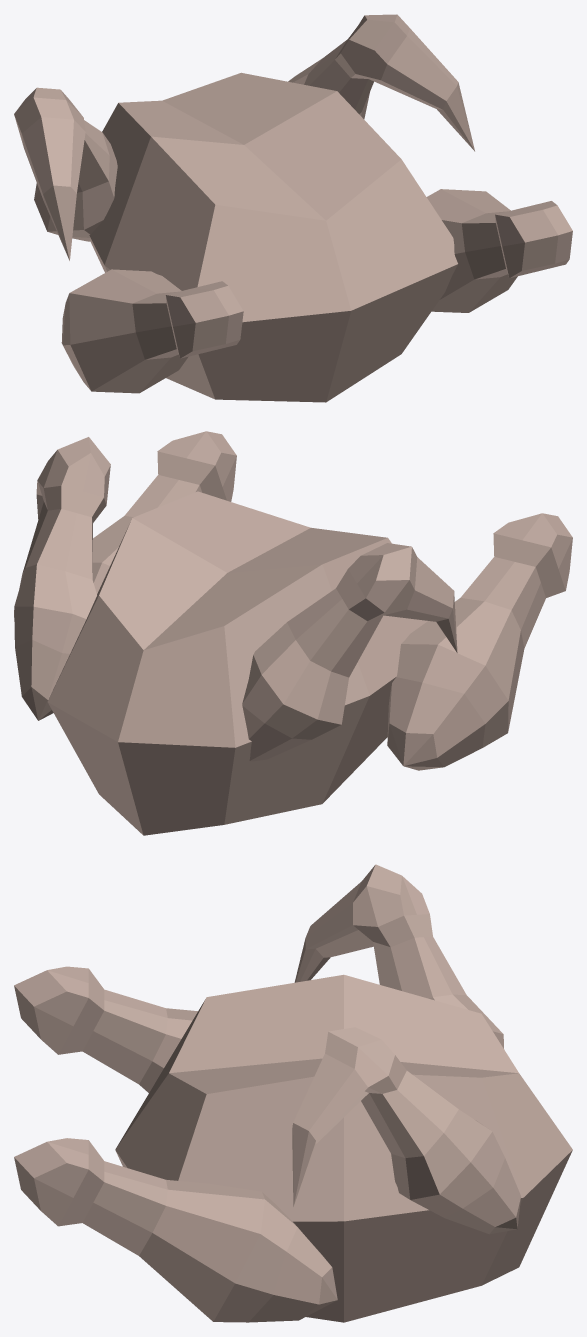
File: Raw Chicken.fbx
The picture shows the model from 3 angles, top to bottom: view 1: azimuth 30°, elevation 25°; view 2: azimuth 150°, elevation 25°; view 3: azimuth 270°, elevation 25°; orthographic projection. The views are drawn at different scales.
Visible parts, largest first — view 1: Raw Chicken; view 2: Raw Chicken; view 3: Raw Chicken.
Boxes of the visible parts, box(x1,y1,x2,y2) form: Raw Chicken: box(14, 14, 572, 402); Raw Chicken: box(14, 431, 572, 835); Raw Chicken: box(14, 864, 572, 1322).
Bounding box in the file's own units: 25.32 × 17.19 × 26.12.
